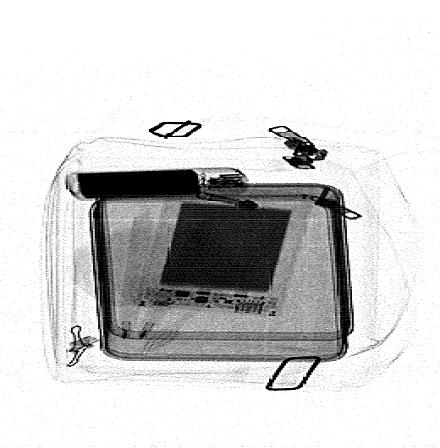Powerbank: (131, 184, 316, 317), (62, 166, 253, 202)
